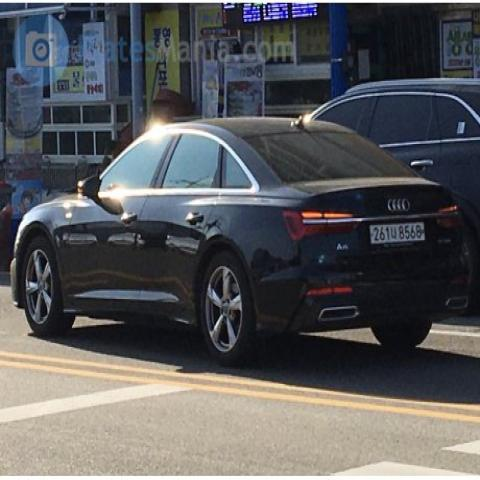LP: (359, 213, 434, 252)
